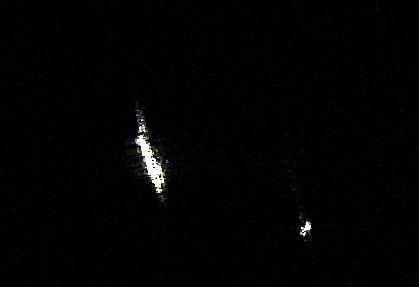ship: (132, 124, 172, 199), (299, 218, 313, 238)
